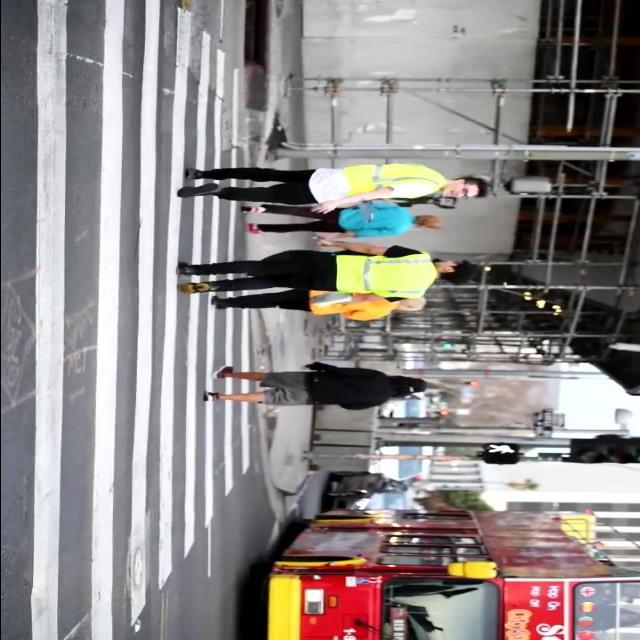jacket: (322, 247, 440, 300), (339, 154, 444, 208)
